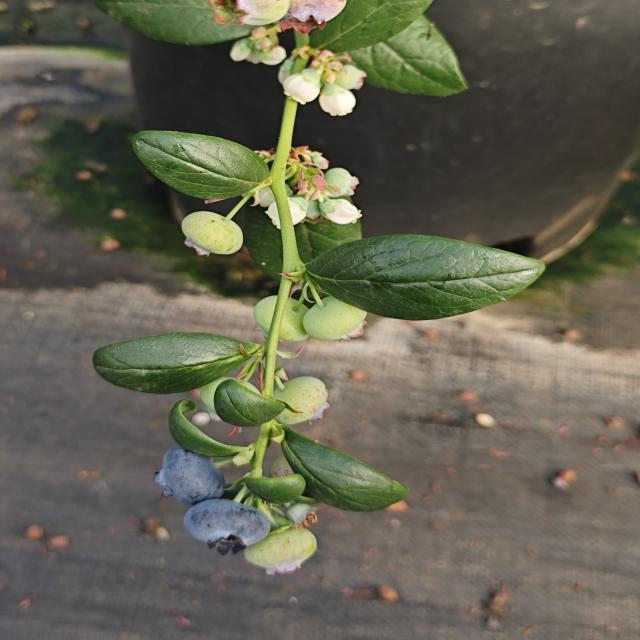ripe: (146, 443, 239, 511), (177, 496, 276, 552)
